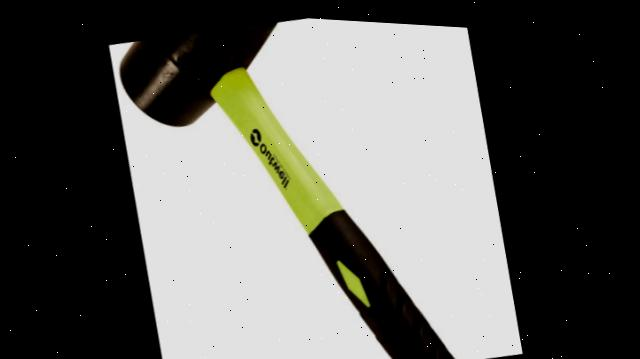hammer: (104, 5, 515, 359)
